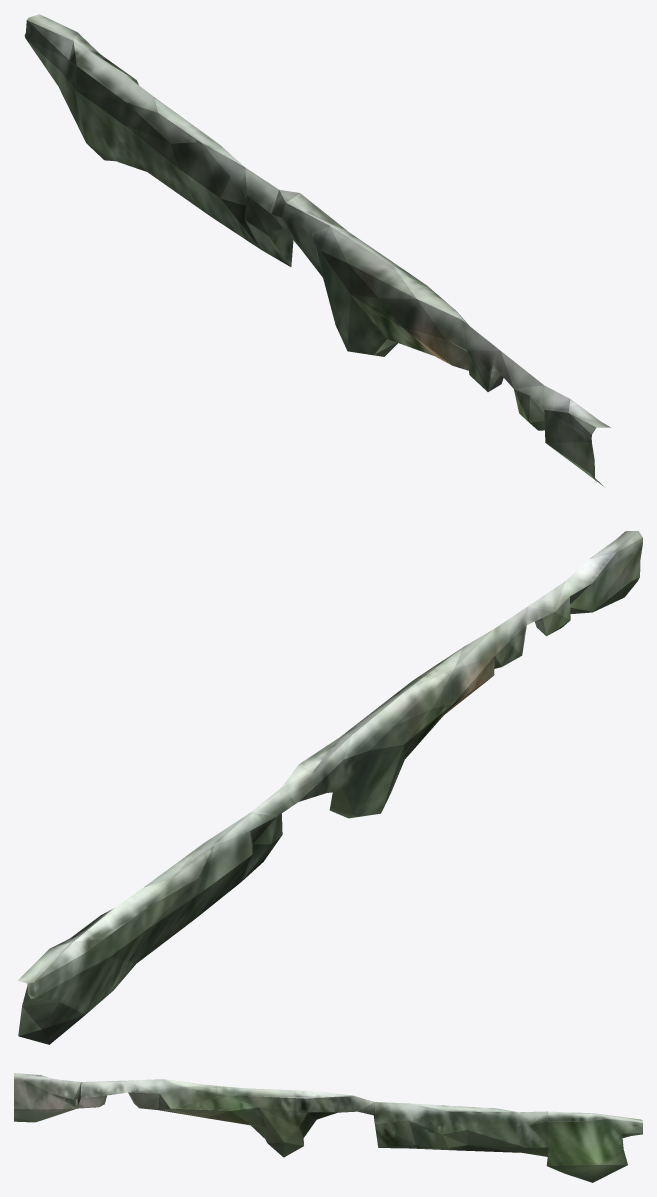
The picture shows the model from 3 angles, top to bottom: view 1: azimuth 30°, elevation 25°; view 2: azimuth 150°, elevation 25°; view 3: azimuth 270°, elevation 25°; orthographic projection. The views are drawn at different scales.
Bounding box in the file's own units: 0.5482 × 0.9186 × 5.9.
Materials: 1 (1 with a texture image).
